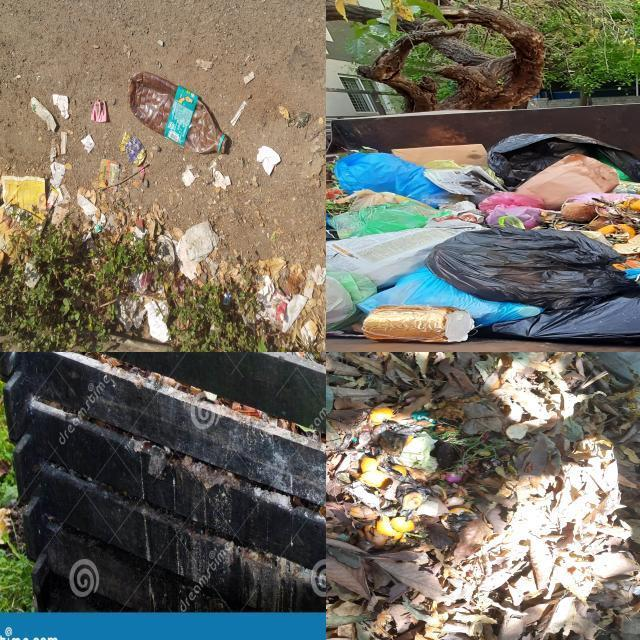Garbage: (326, 352, 640, 640), (326, 134, 640, 345)
Plastic: (362, 305, 474, 343)
Plastic_Bag: (425, 227, 635, 309), (357, 267, 545, 328), (477, 286, 640, 345), (488, 133, 640, 191), (335, 153, 452, 207), (330, 199, 452, 238), (326, 271, 376, 332), (480, 192, 545, 228), (335, 189, 414, 211), (326, 271, 376, 305), (594, 150, 632, 181), (564, 192, 640, 205), (422, 159, 474, 169), (613, 181, 640, 194), (469, 191, 493, 205), (482, 168, 501, 182), (624, 269, 640, 279), (326, 230, 338, 242)
Plastic_bottle: (128, 72, 226, 153)
Plastic_wraper: (120, 132, 147, 166), (94, 159, 120, 189), (270, 292, 290, 325), (412, 412, 433, 422)
